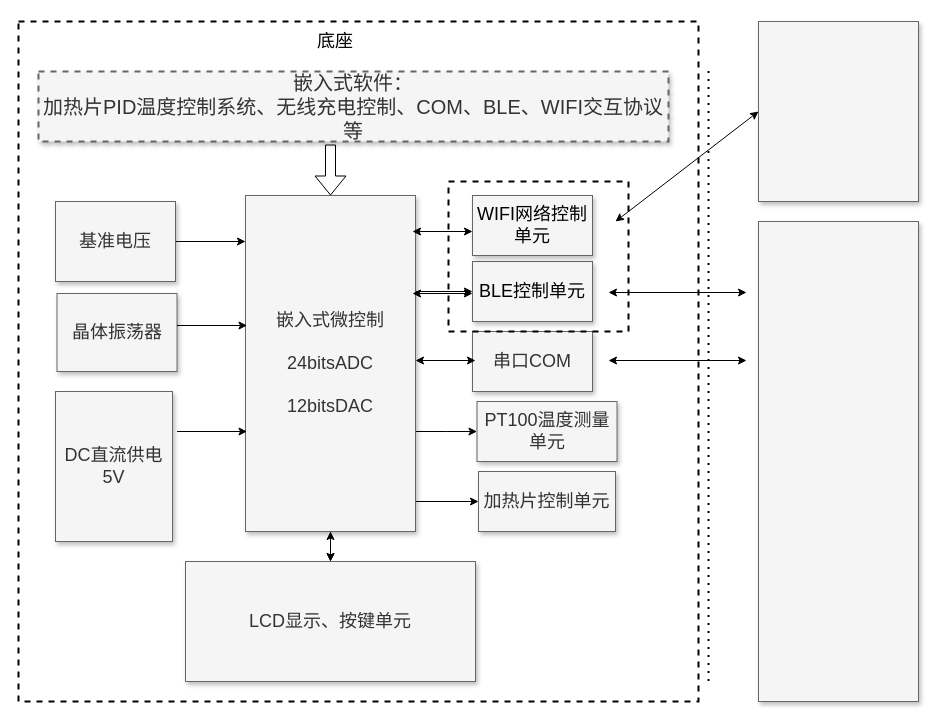
The diagram is 942 pixels wide and 726 high, and some of its shapes have lost their labels. Each missing label, with the centre of its shape:
"手持式 耳温计或额温计" goes at (x=839, y=462).
"服务器或手机APP" goes at (x=839, y=112).
